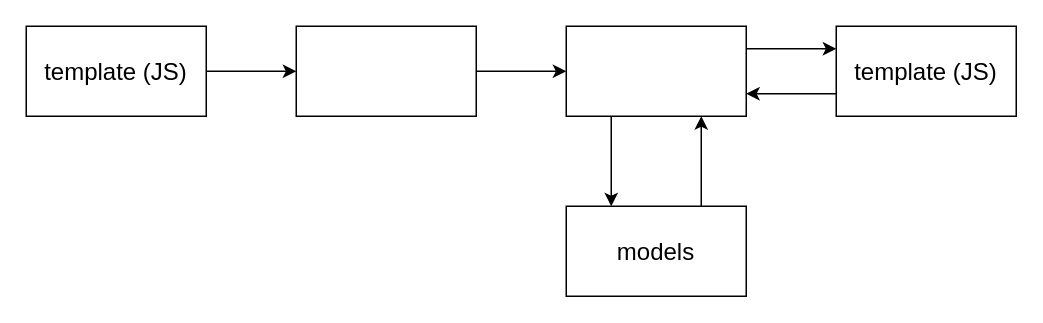
The diagram is 1043 pixels wide and 323 high, and some of its shapes have lost their labels. The centre of each missing label's shape, as x and y in pixels:
"consumers" belongs at point (655, 70).
"routing" belongs at point (385, 70).
